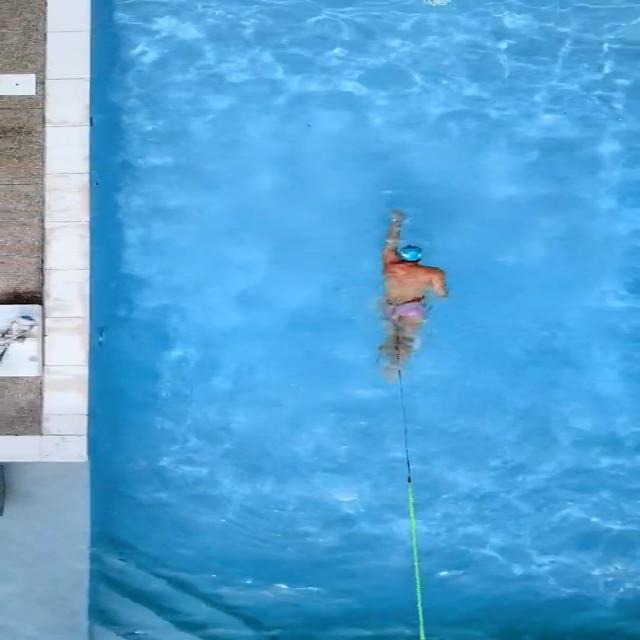Swimming: (371, 206, 451, 378)
